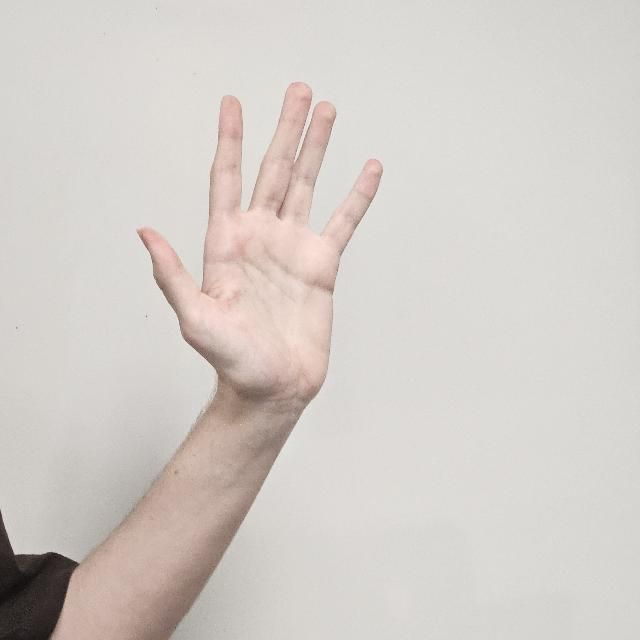X: (130, 80, 406, 426)
